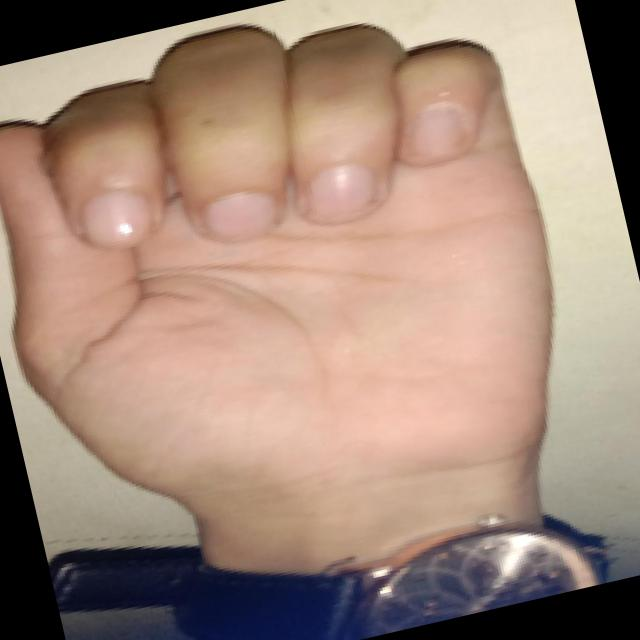Nail: (308, 163, 375, 222), (84, 190, 151, 246), (206, 191, 275, 237), (412, 109, 461, 153)
